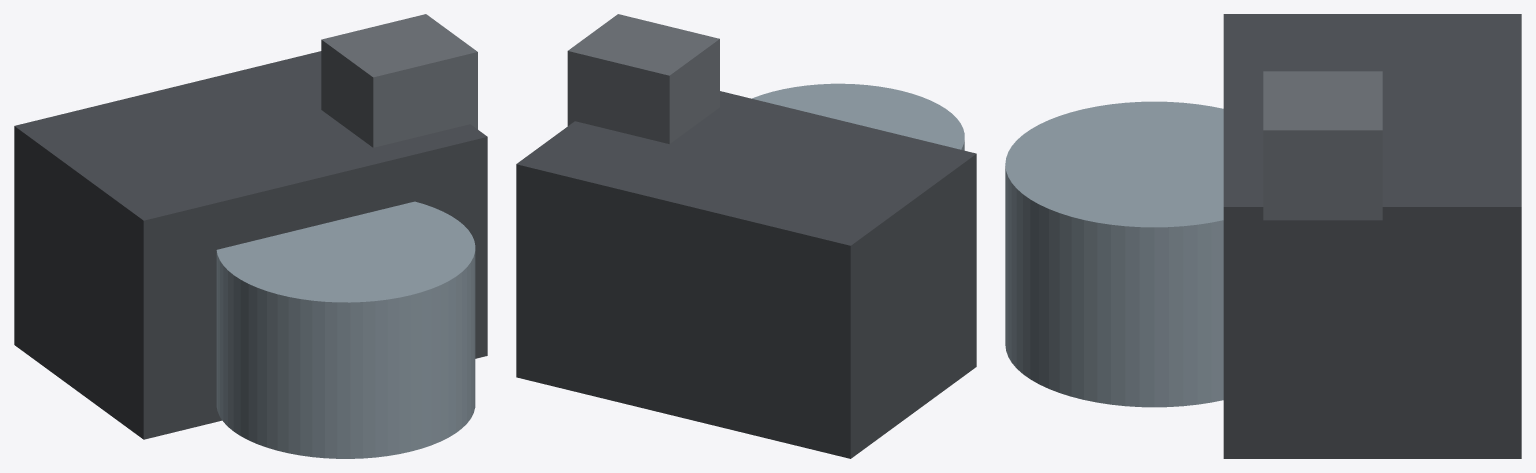
The model's file is camera_body.glb.
3 views of the same model, side by side, from view 1: azimuth 30°, elevation 25°; view 2: azimuth 150°, elevation 25°; view 3: azimuth 270°, elevation 25° (orthographic). The views are drawn at different scales.
Parts seen in each view (by area): view 1: part_0, part_1, part_2; view 2: part_0, part_2, part_1; view 3: part_0, part_1, part_2.
Boxes of the visible parts, <box> form: part_0: <box>14,51,487,439</box>; part_1: <box>216,201,475,458</box>; part_2: <box>321,14,477,147</box>; part_0: <box>516,91,976,458</box>; part_2: <box>567,14,719,143</box>; part_1: <box>752,83,964,150</box>; part_0: <box>1223,14,1521,458</box>; part_1: <box>1005,101,1223,407</box>; part_2: <box>1263,71,1382,220</box>.
Bounding box in the file's own units: 0.47 × 0.37 × 0.52.
